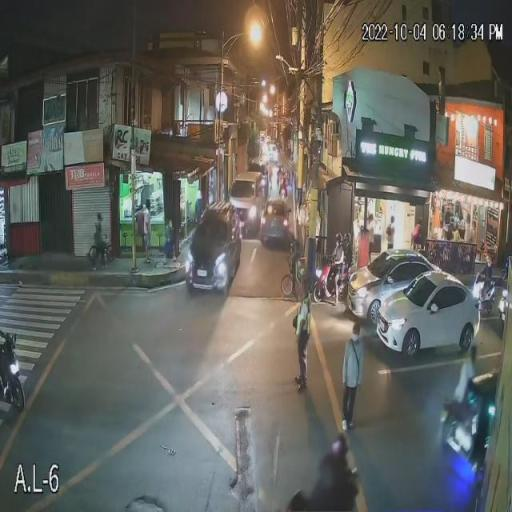helmet: (330, 436, 348, 457), (482, 255, 497, 270), (342, 232, 358, 246), (333, 232, 343, 246)
motorcycle: (438, 376, 498, 474), (0, 328, 26, 414), (311, 252, 350, 308), (470, 264, 501, 320), (495, 260, 511, 313)
rider: (287, 434, 358, 512), (444, 344, 478, 430), (324, 233, 350, 303), (475, 255, 498, 308)
